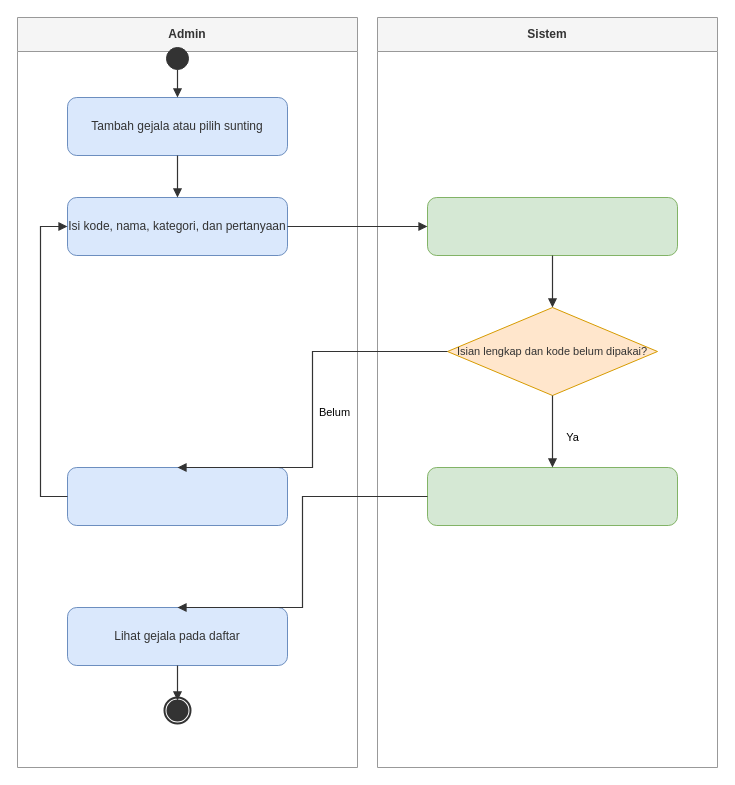
Image size: 735x785. Some labels were removed from this diagram. Each missing label, with the centre of its shape:
"Perbaiki isian berdasarkan penjelasan" belongs at point (177, 496).
"Periksa kelengkapan isian dan kode yang sama" belongs at point (552, 226).
"Simpan gejala baru atau ganti gejala lama" belongs at point (552, 496).
